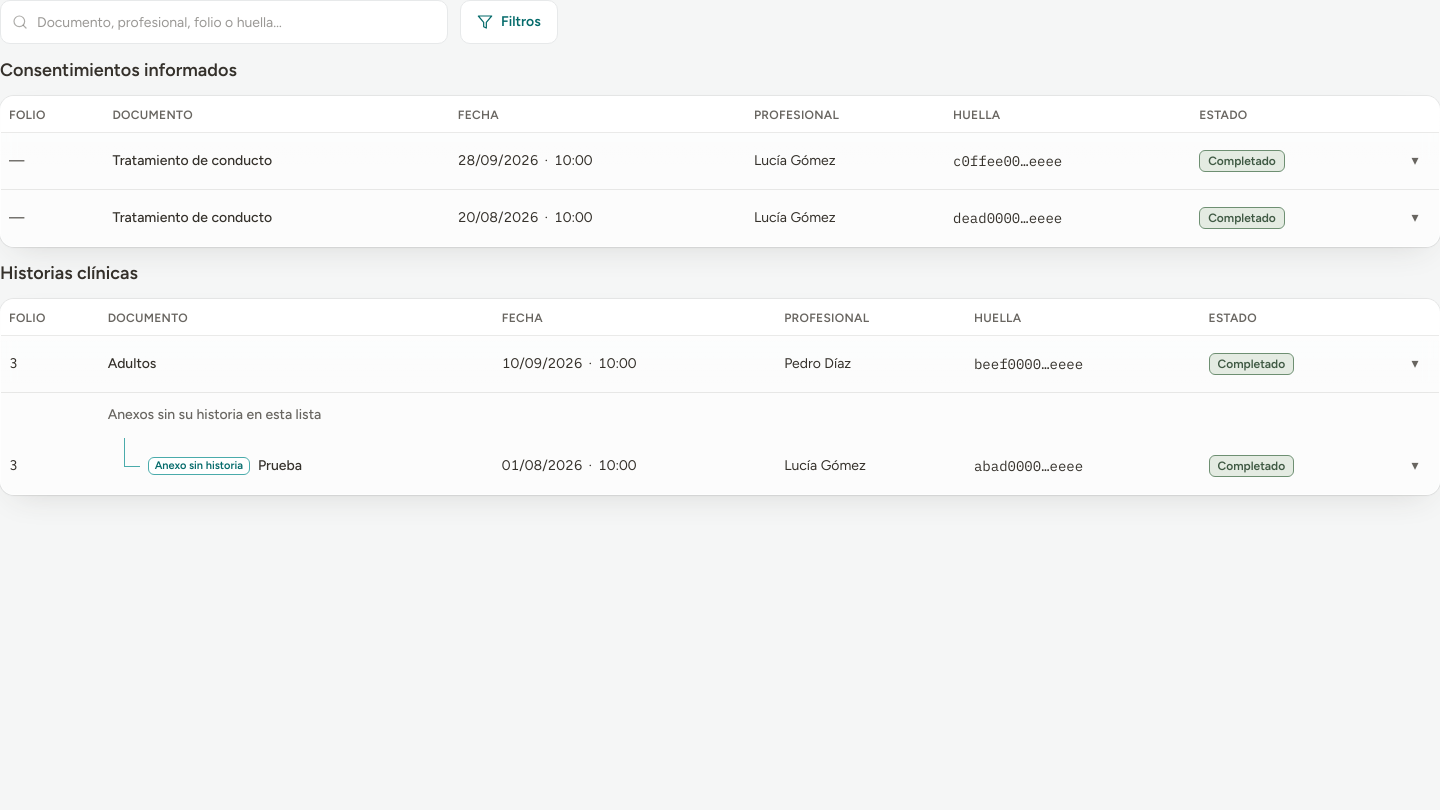
Test: RegistroDeDocumentos › los filtros van en la hoja de «Filtros», como en Turnos: el documento es un modelo puntual
Click the button "Filtros". click: [509, 22]
box: x1=460 y1=0 x2=558 y2=44
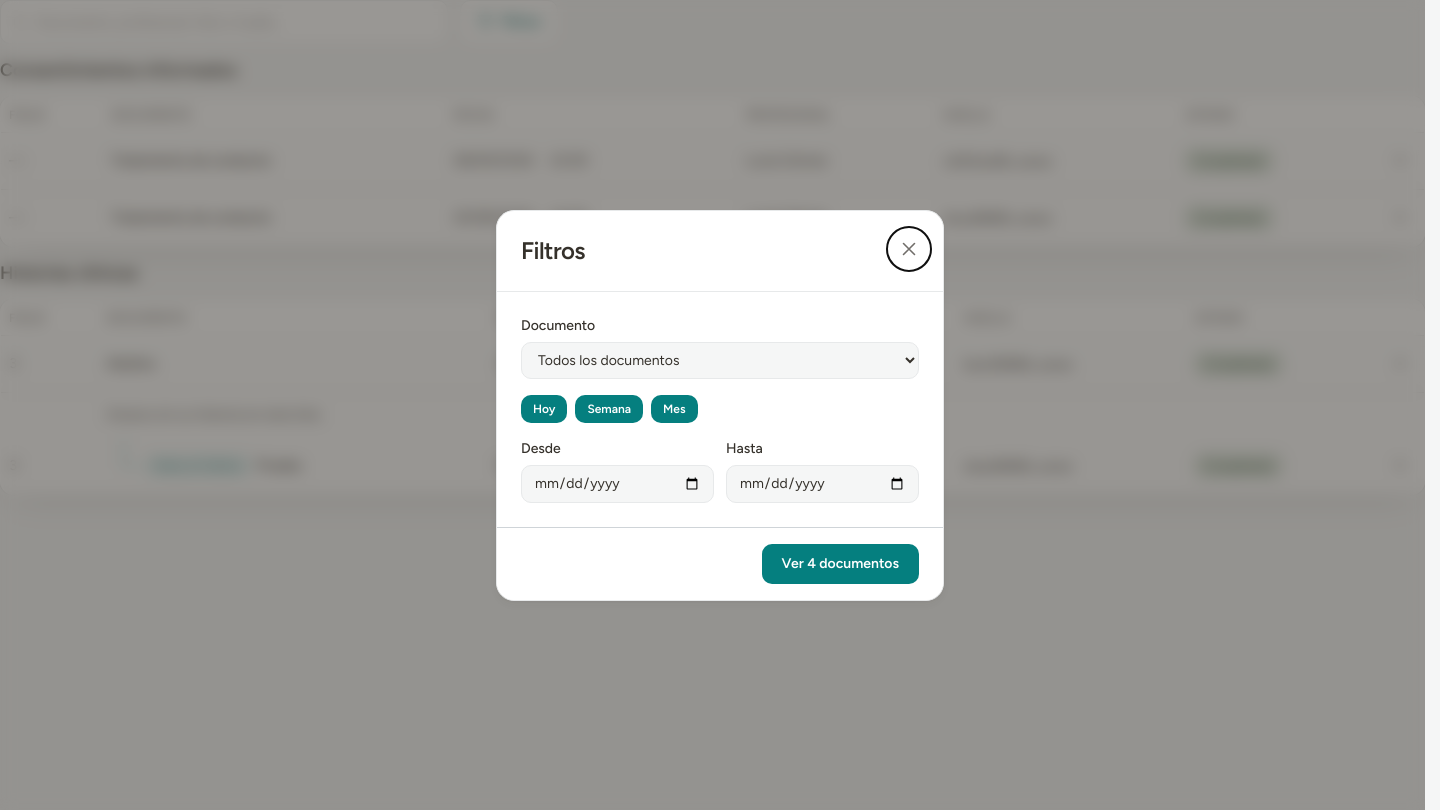
Select "Consentimiento informado: Tratamiento de conducto" in the dropdown labelled "Documento". click: [720, 360]
box: x1=521 y1=342 x2=919 y2=378
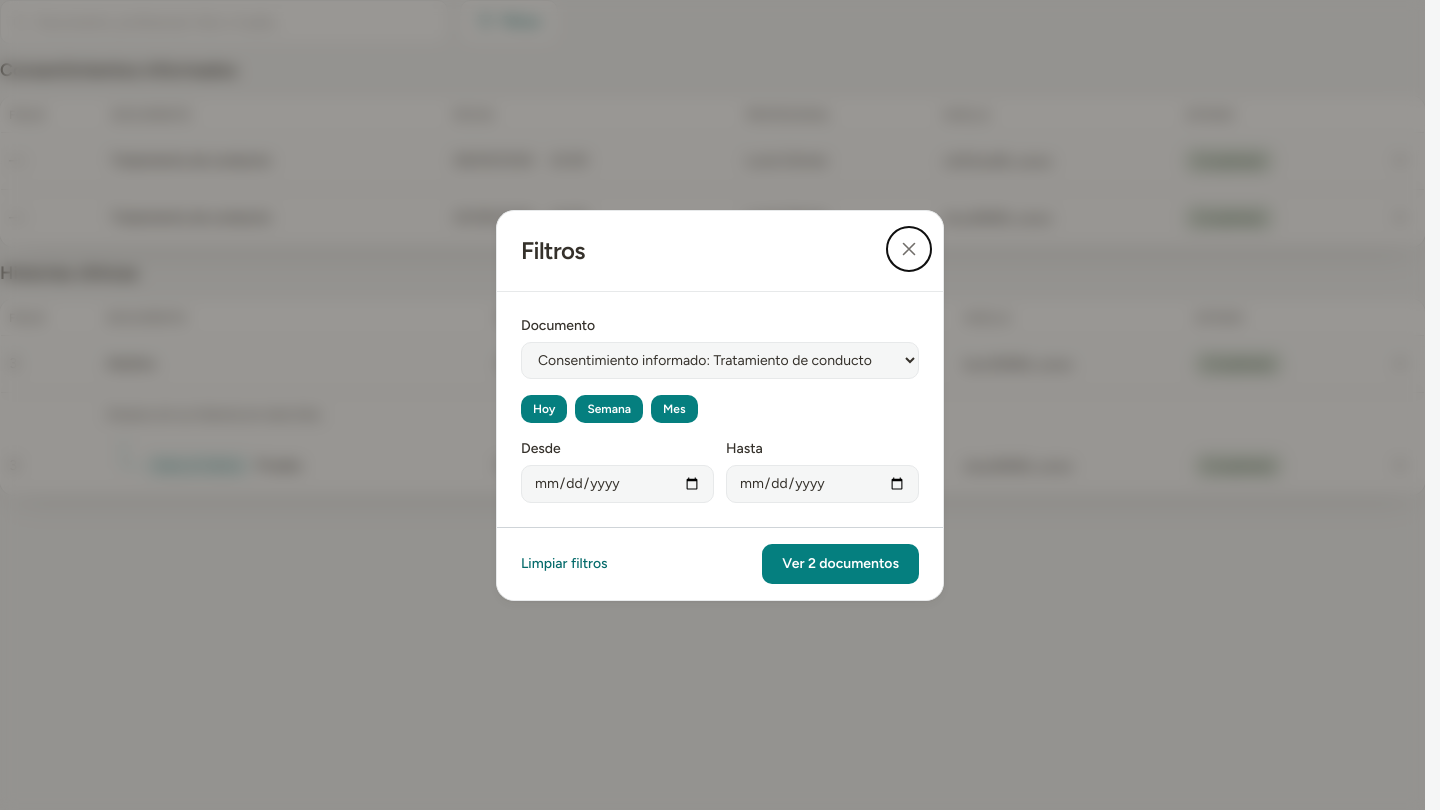
Click the button "Ver 2 documentos". click: [841, 564]
box: x1=762 y1=544 x2=919 y2=584
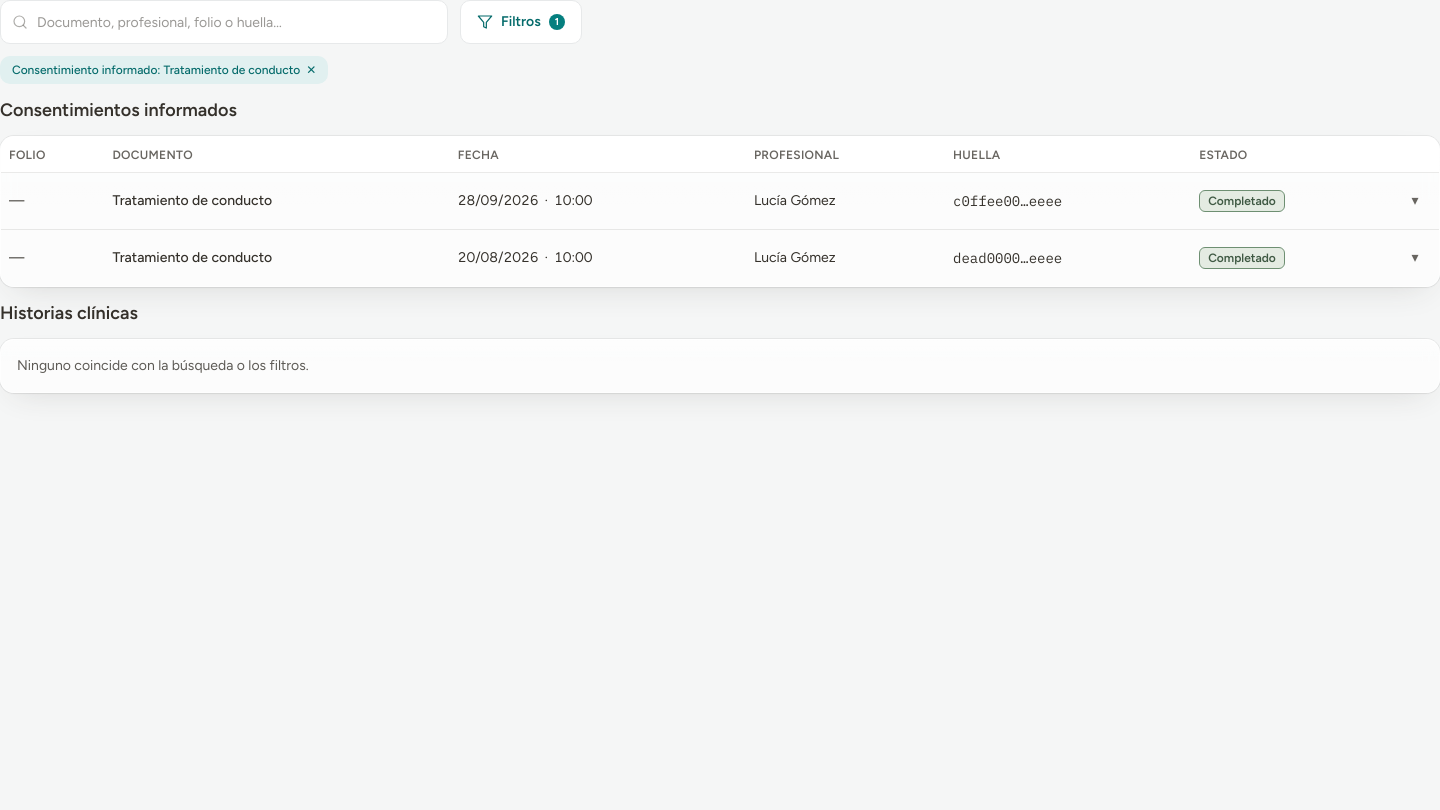
Now the dialog is gone
Now the button "Filtros 1" is shown, box x1=460 y1=0 x2=582 y2=44
